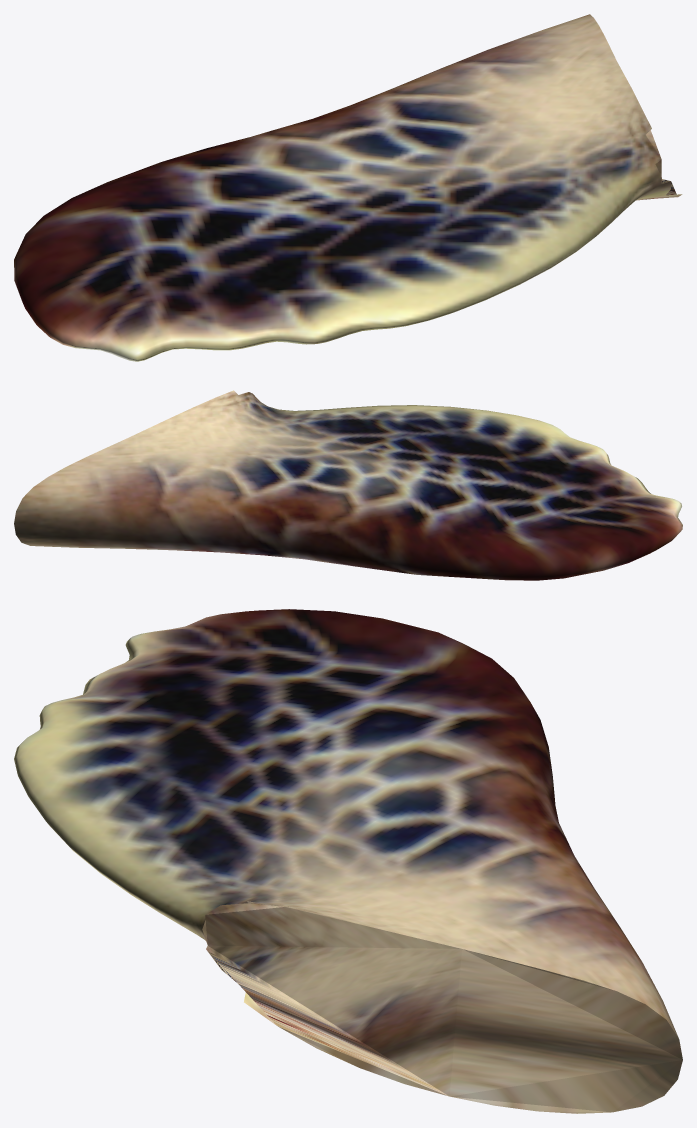
The model's file is AletaTraIzq.obj.
The picture shows the model from 3 angles, top to bottom: view 1: azimuth 30°, elevation 25°; view 2: azimuth 150°, elevation 25°; view 3: azimuth 270°, elevation 25°; orthographic projection. The views are drawn at different scales.
Visible parts, largest first — view 1: AletaTraIzq; view 2: AletaTraIzq; view 3: AletaTraIzq.
Part boxes in pixels (x1,y1,x2,y2): AletaTraIzq: [14, 14, 682, 361]; AletaTraIzq: [14, 390, 682, 580]; AletaTraIzq: [14, 609, 682, 1113].
Size of the model in its own units: 5.26 by 0.913 by 3.57.
